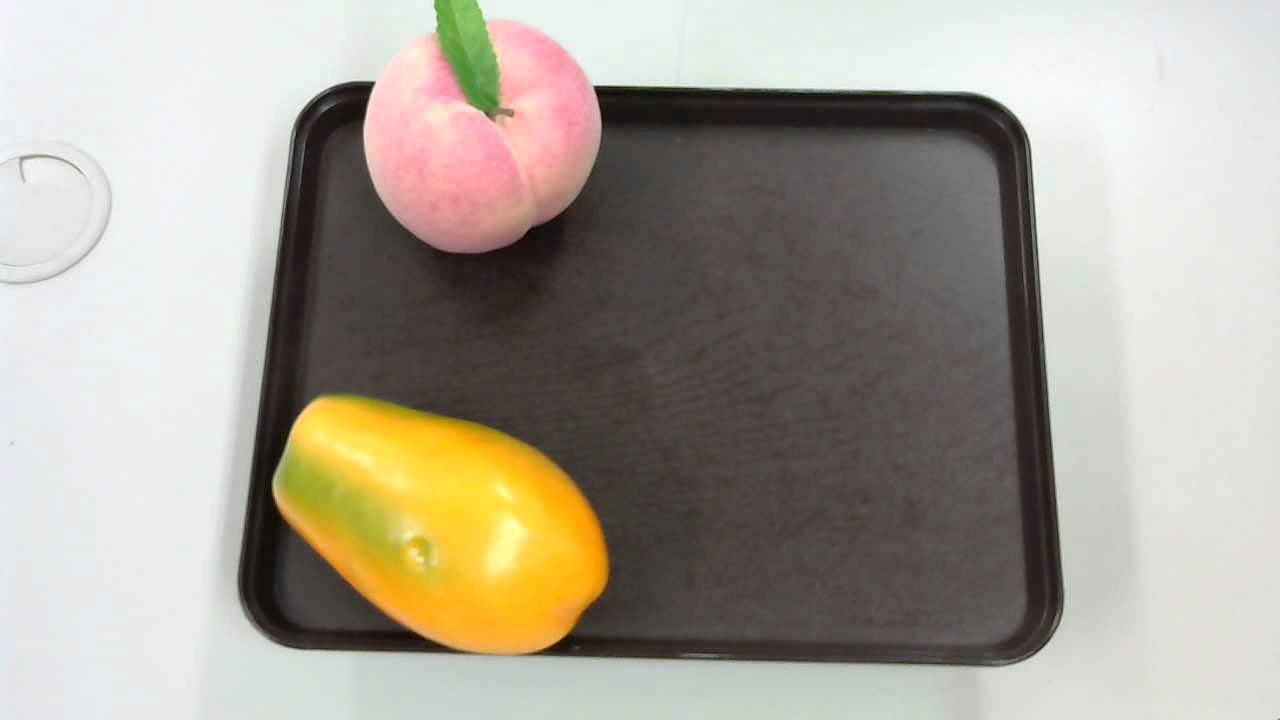papya: (265, 381, 616, 669)
peach: (356, 1, 602, 256)
